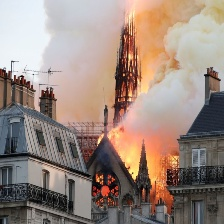fire: (132, 143, 183, 193), (125, 16, 140, 97)
smoke: (28, 1, 224, 140)
